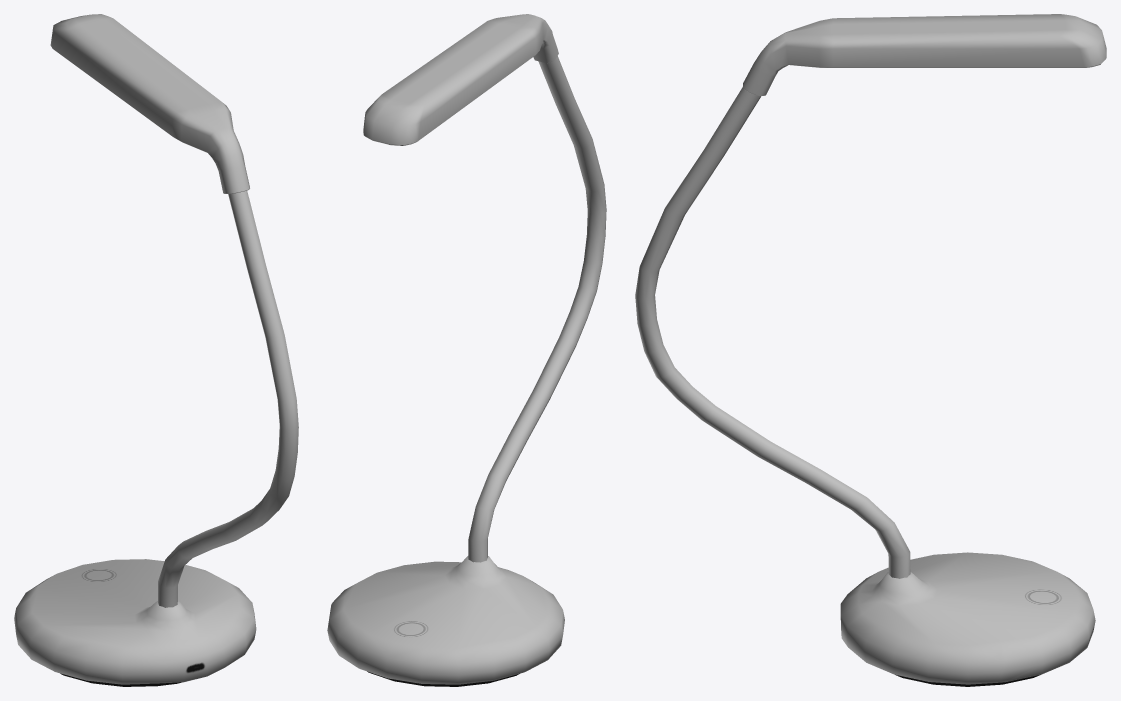
Rendered from lamp1.gltf.
The picture shows the model from 3 angles, left to right: view 1: azimuth 30°, elevation 25°; view 2: azimuth 150°, elevation 25°; view 3: azimuth 270°, elevation 25°; orthographic projection. The views are drawn at different scales.
Parts seen in each view (by area): view 1: polySurface3; view 2: polySurface3; view 3: polySurface3.
Boxes of the visible parts, x1,y1,x2,y2 form: polySurface3: (14, 14, 298, 686); polySurface3: (327, 14, 606, 686); polySurface3: (635, 14, 1106, 686).
Size of the model in its own units: 15.17 by 40.29 by 28.02.
Materials: 1 (1 with a texture image).
